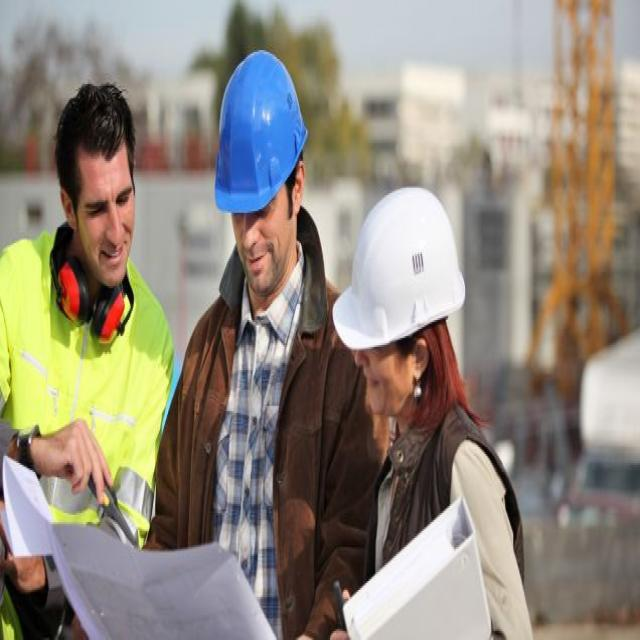secure person: (152, 50, 374, 588), (376, 404, 533, 640), (332, 188, 465, 352)
unsecured person: (0, 84, 166, 511)
